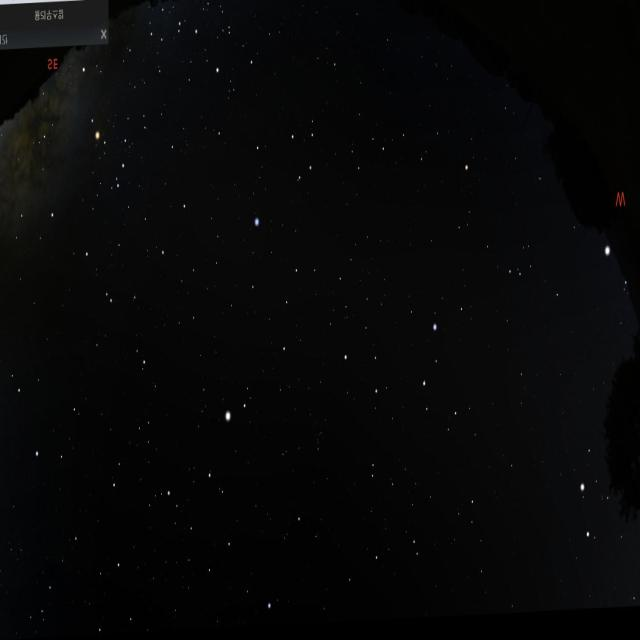bootes: (177, 396, 251, 600)
leo: (337, 301, 483, 451)
scorpius: (54, 50, 138, 205)
